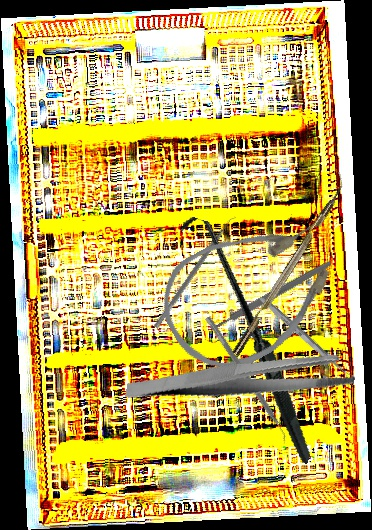Cannula: (144, 195, 360, 390)
Chopper: (223, 170, 353, 357)
Dressing Forceps: (124, 320, 359, 437)
Hook Surgical: (126, 214, 367, 465)
Scalpel Handle: (209, 259, 333, 333)
Spatula Surgical: (199, 315, 293, 446), (153, 213, 239, 332)
Surgical Spoon: (258, 294, 356, 384)
